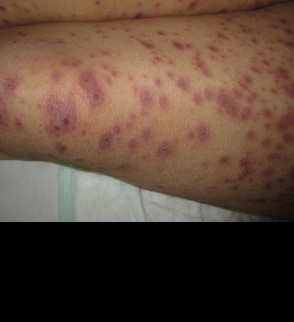SJS-TEN: (0, 0, 294, 220)
